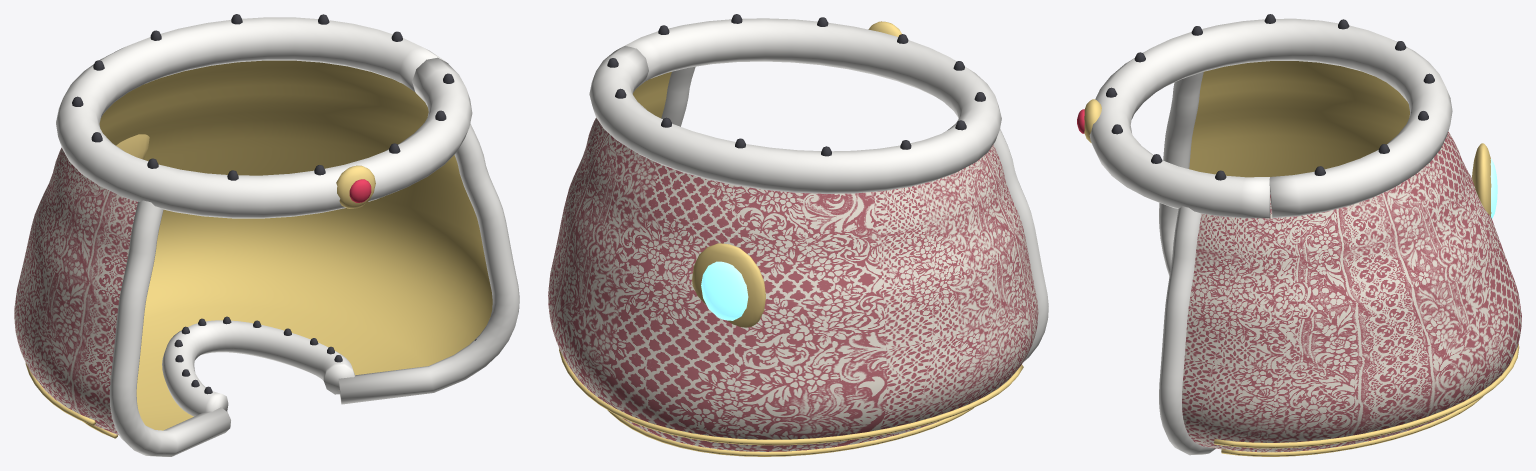
Rendered from QueenCape.fbx.
3 renders of one model, left to right at view 1: azimuth 30°, elevation 25°; view 2: azimuth 150°, elevation 25°; view 3: azimuth 270°, elevation 25°, orthographic. The views are drawn at different scales.
Visible parts, largest first — view 1: QueenCape; view 2: QueenCape; view 3: QueenCape.
Part boxes in pixels (left/top/right/bottom): QueenCape: left=14, top=14, right=519, bottom=456; QueenCape: left=548, top=14, right=1048, bottom=456; QueenCape: left=1077, top=14, right=1521, bottom=456.
Size of the model in its own units: 0.882 by 0.618 by 0.7961.
Materials: 7 (1 with a texture image).
